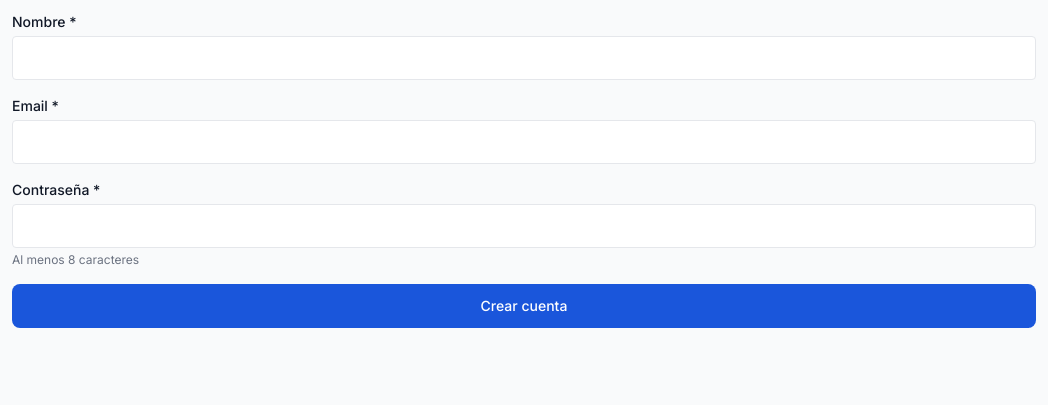
Test: RegisterForm (T2.1) › sin Retry-After el copy es genérico: no se inventa un número
This screenshot has width=1048, height=405.
Type "Ana Gómez" into the field labelled "Nombre *" at (524, 58), box [12, 36, 1036, 80]
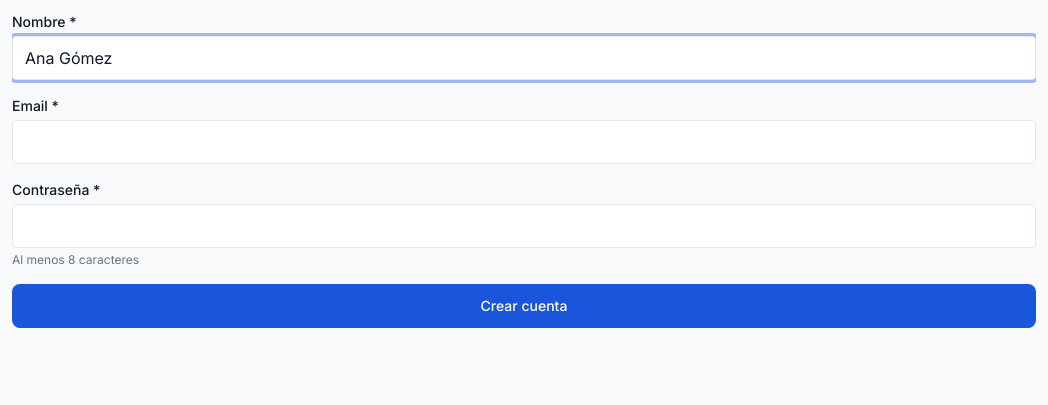
Type "ana@example.com" into the field labelled "Email *" at (524, 142), box [12, 120, 1036, 164]
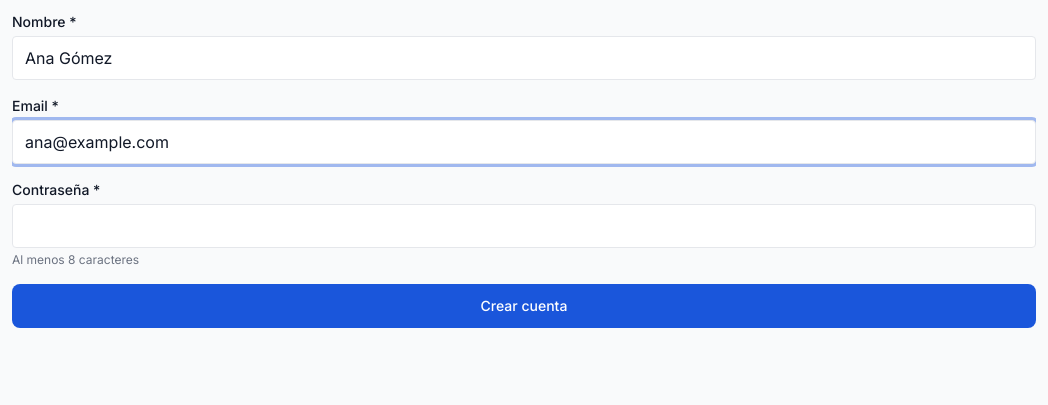
Type "Contrasena-Valida-1" into the password field labelled "Contraseña *" at (524, 226), box [12, 204, 1036, 248]
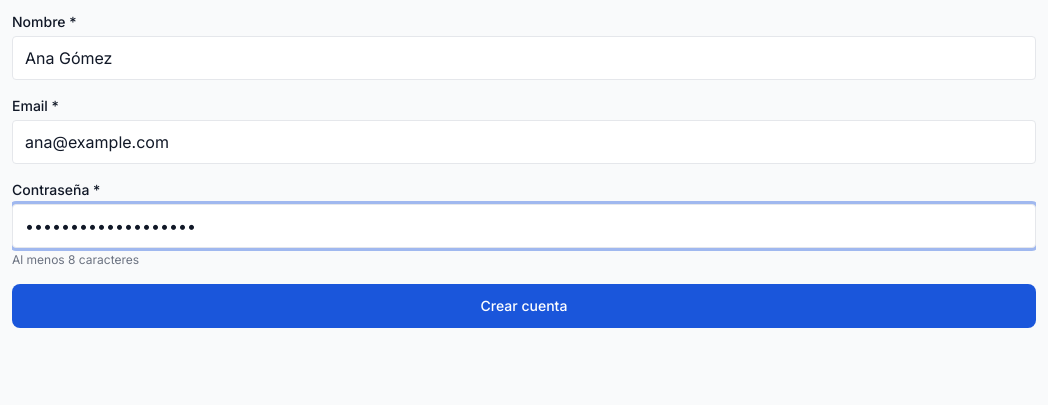
Click the button "Crear cuenta" at (524, 306), box [12, 284, 1036, 328]
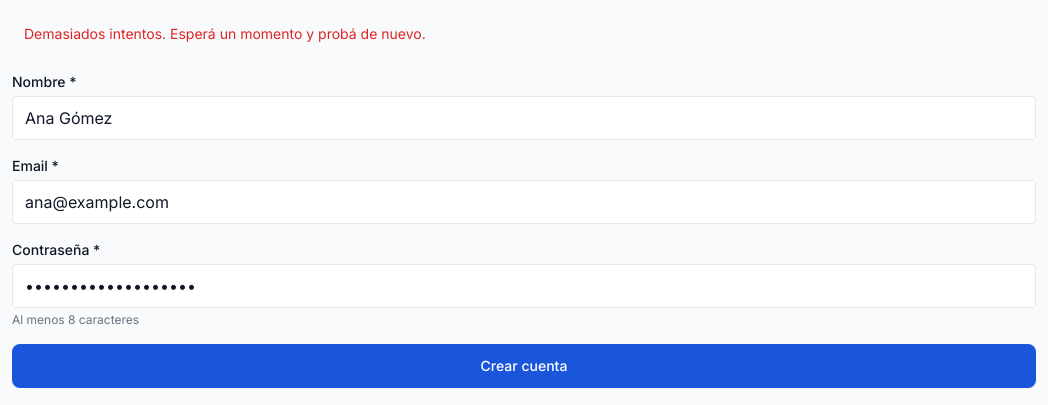
Now the message shows "Esperá un momento y probá de nuevo", box [24, 25, 426, 42]
